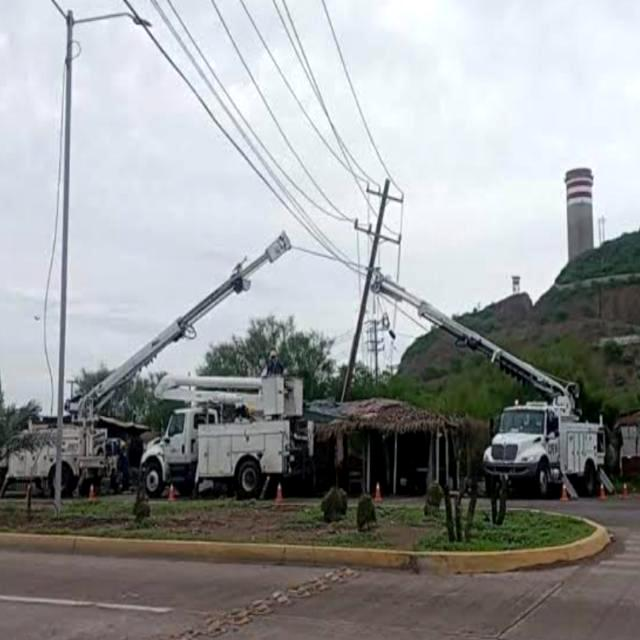Broken Pole: (341, 175, 408, 398)
